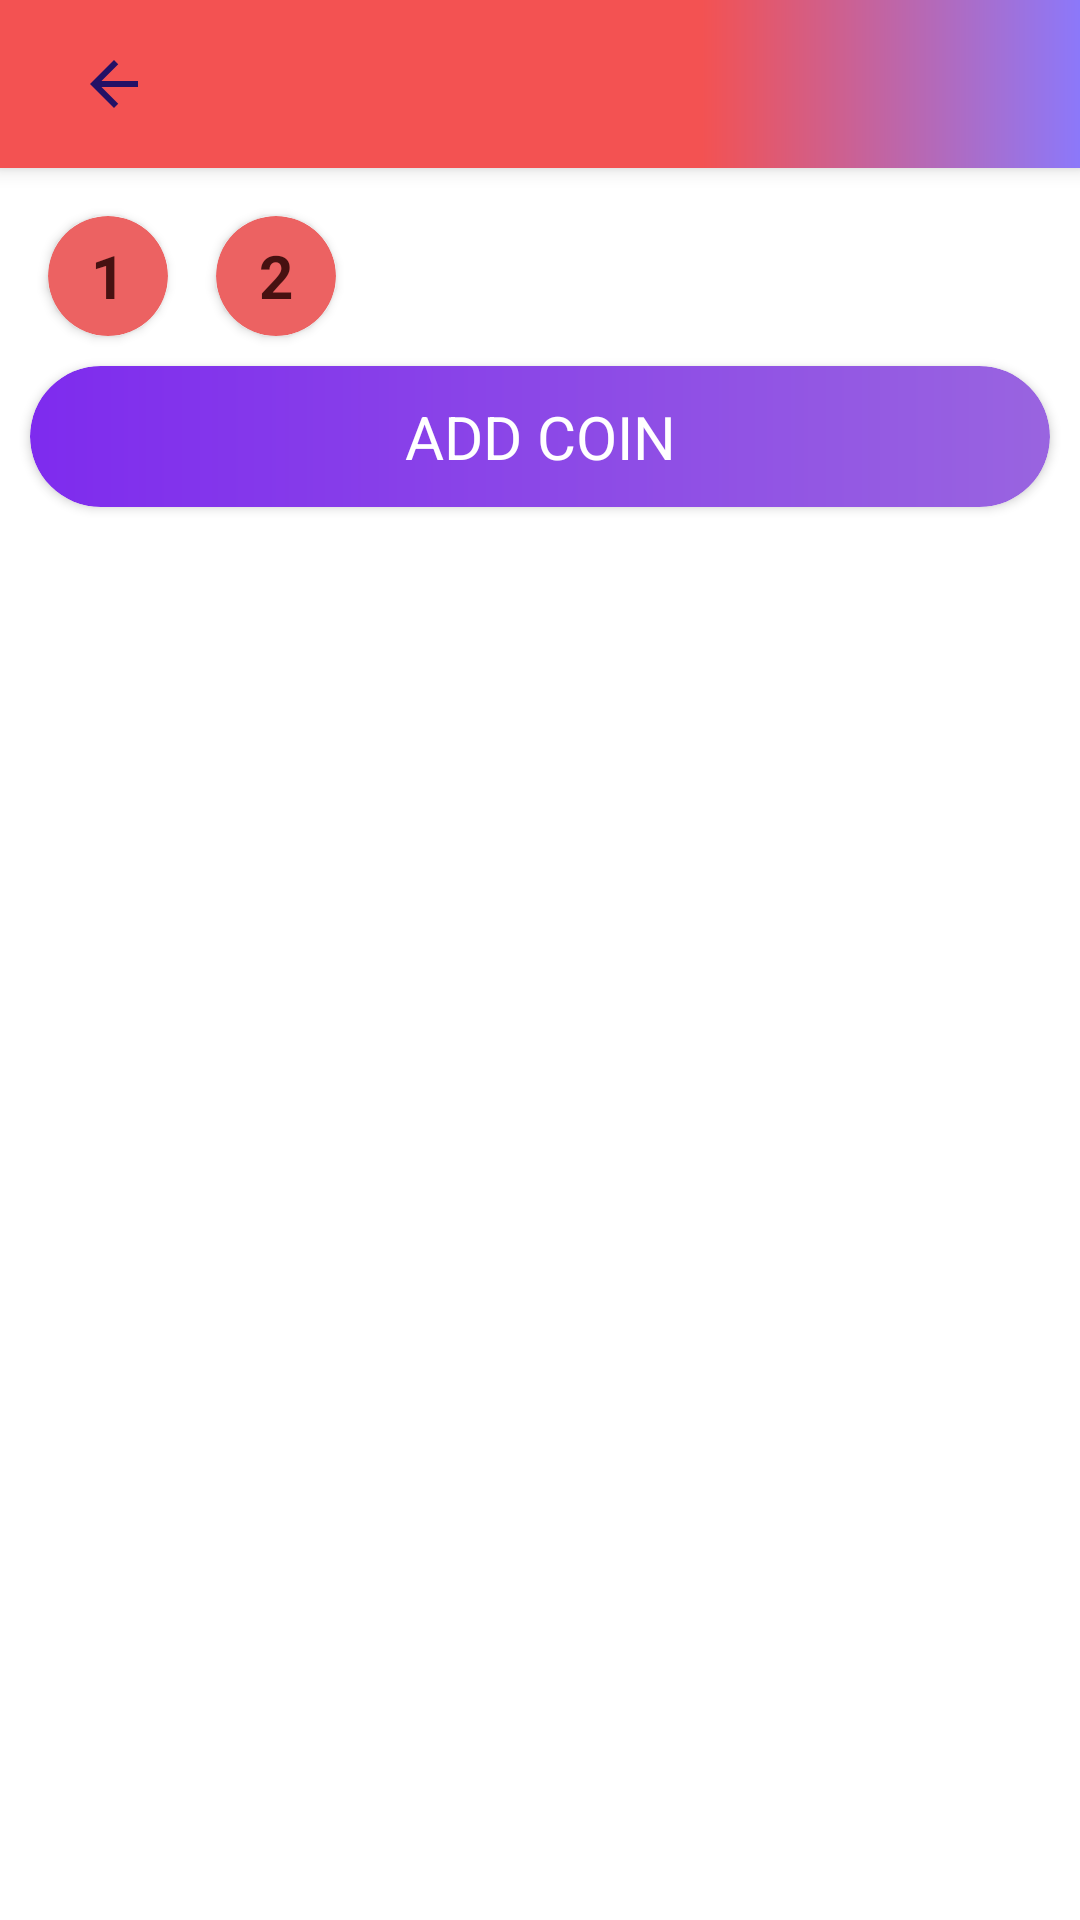

Screen size 1080 × 1920. Icon name, then its center in pixels as point (x, y):
arrow back: point (114, 84)
